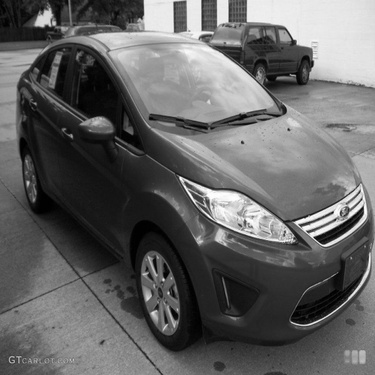car: (12, 27, 372, 359), (206, 10, 322, 98), (163, 17, 222, 58), (114, 8, 148, 39), (43, 16, 77, 33)
